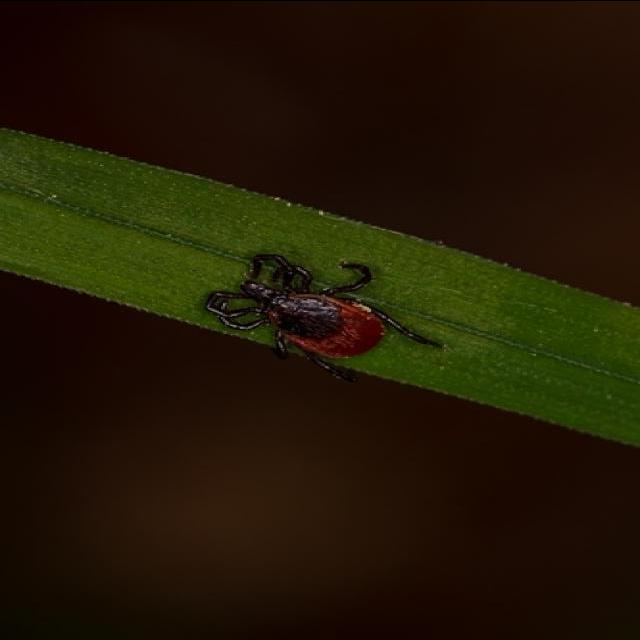Ixodes Ricinus-F: (206, 253, 446, 381)
